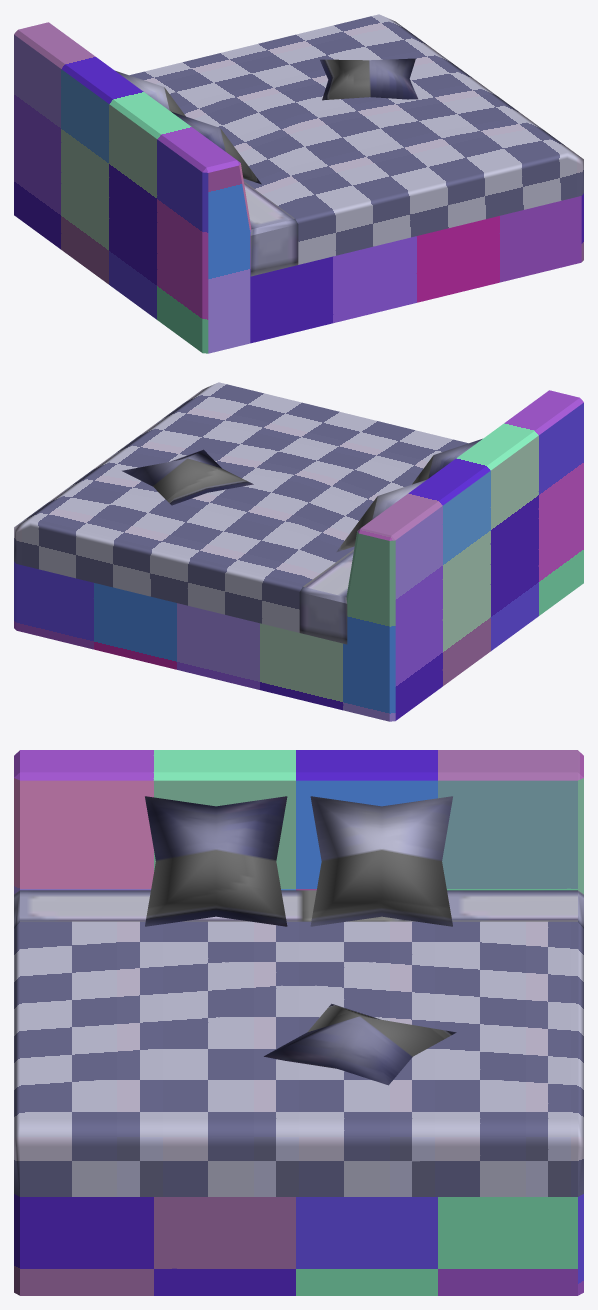
Rendered from rmk_mnc_bedW_jwl.dae.
3 renders of one model, top to bottom at view 1: azimuth 30°, elevation 25°; view 2: azimuth 150°, elevation 25°; view 3: azimuth 270°, elevation 25°, orthographic. The views are drawn at different scales.
Parts seen in each view (by area): view 1: rmk_mnc_bedW_jwl; view 2: rmk_mnc_bedW_jwl; view 3: rmk_mnc_bedW_jwl.
Part boxes in pixels (box(x1,y1,x2,y2)): rmk_mnc_bedW_jwl: box(14, 14, 583, 353); rmk_mnc_bedW_jwl: box(14, 382, 583, 721); rmk_mnc_bedW_jwl: box(14, 750, 583, 1295).
Bounding box in the file's own units: 57.12 × 26.4 × 49.94.
3 materials, 3 textured.
